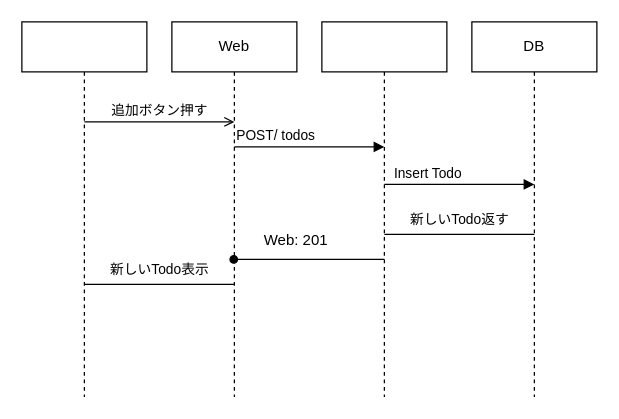
Image size: 619x419. Some labels were removed from this diagram. The shapes that lost their labels are listed below. From the top down, each one's box as (x1, y1, x2, y2) in pixels, then its label:
(21, 21, 147, 397): ユーザー
(321, 21, 447, 397): API
